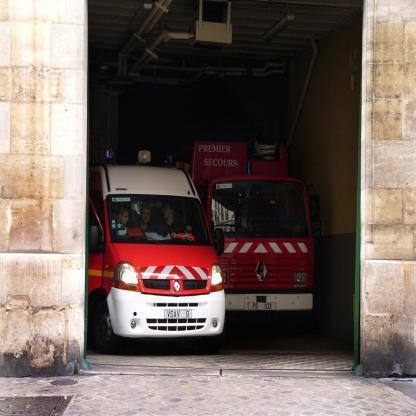Ambulance - v1 Ambulance last generate: (87, 149, 227, 355), (190, 142, 325, 319)
